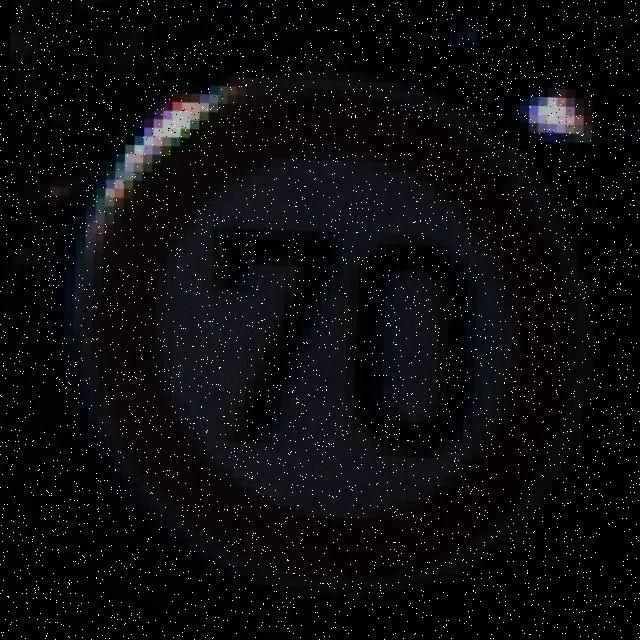Ograniczenie predkosci do 70: (89, 74, 583, 596)
